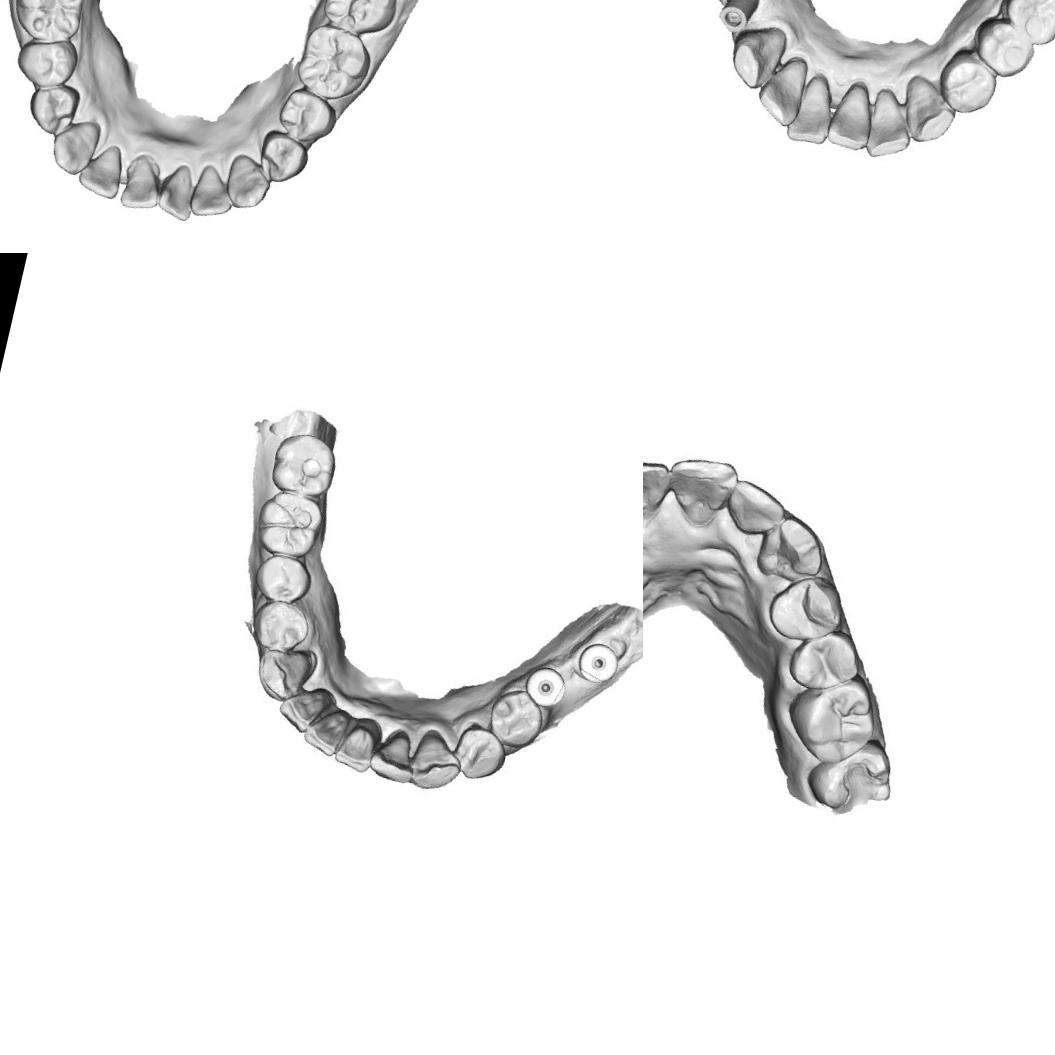canine: (748, 509, 834, 594), (722, 15, 792, 93), (894, 76, 961, 154), (407, 724, 467, 797), (247, 642, 315, 706), (46, 112, 104, 180), (222, 150, 276, 215)
implant: (712, 0, 766, 40), (579, 640, 622, 684), (528, 665, 571, 708)
incisor: (658, 450, 739, 530), (858, 81, 924, 164), (753, 52, 812, 133), (722, 476, 792, 544), (783, 69, 840, 148), (826, 77, 878, 154), (75, 138, 128, 201), (186, 162, 240, 222), (118, 150, 168, 213), (154, 158, 202, 222), (277, 683, 332, 737), (643, 448, 678, 524), (375, 725, 421, 778), (334, 718, 380, 769), (308, 704, 352, 754)
molar: (776, 663, 886, 778), (291, 20, 377, 107), (253, 484, 330, 560), (265, 430, 336, 500), (6, 0, 92, 50), (317, 0, 406, 41), (1002, 0, 1055, 46)
premolar: (762, 564, 854, 650), (784, 621, 868, 699), (935, 48, 1002, 122), (10, 29, 82, 95), (974, 20, 1043, 84), (274, 82, 342, 146), (252, 126, 314, 189), (486, 686, 546, 750), (252, 596, 312, 658), (253, 550, 317, 606), (22, 82, 80, 139), (454, 727, 507, 778)
